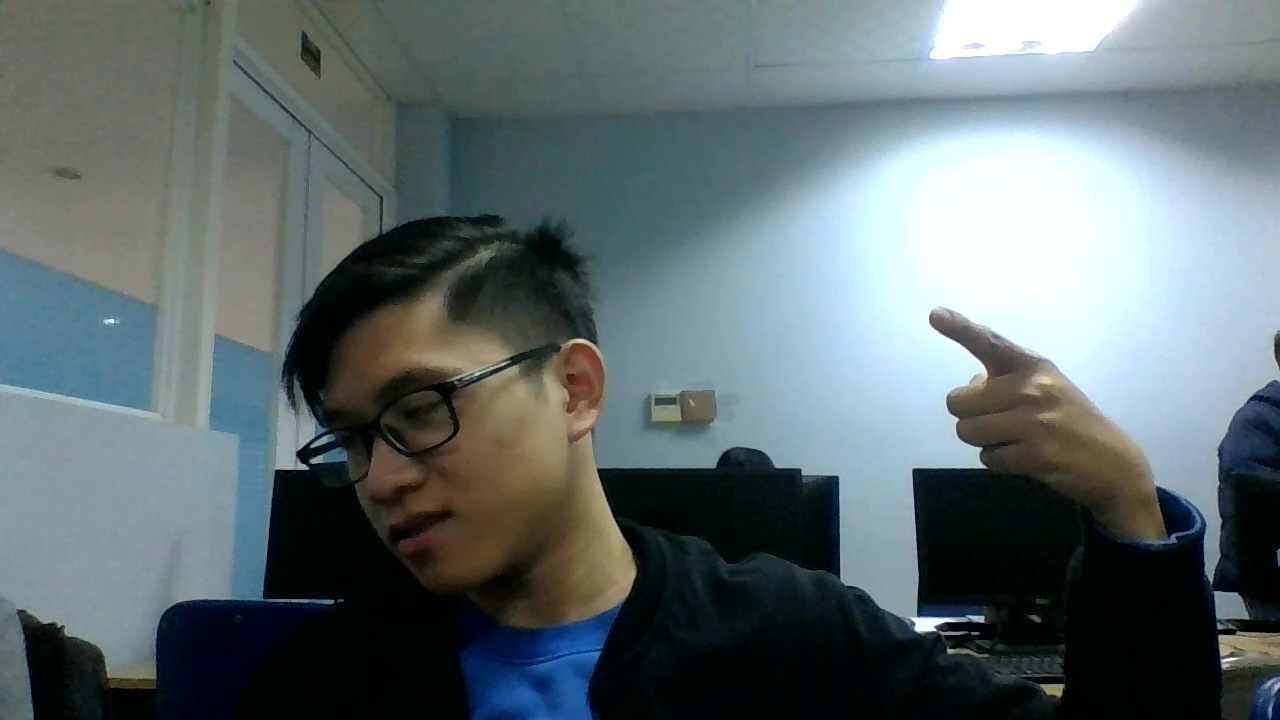right: (923, 303, 1176, 504)
